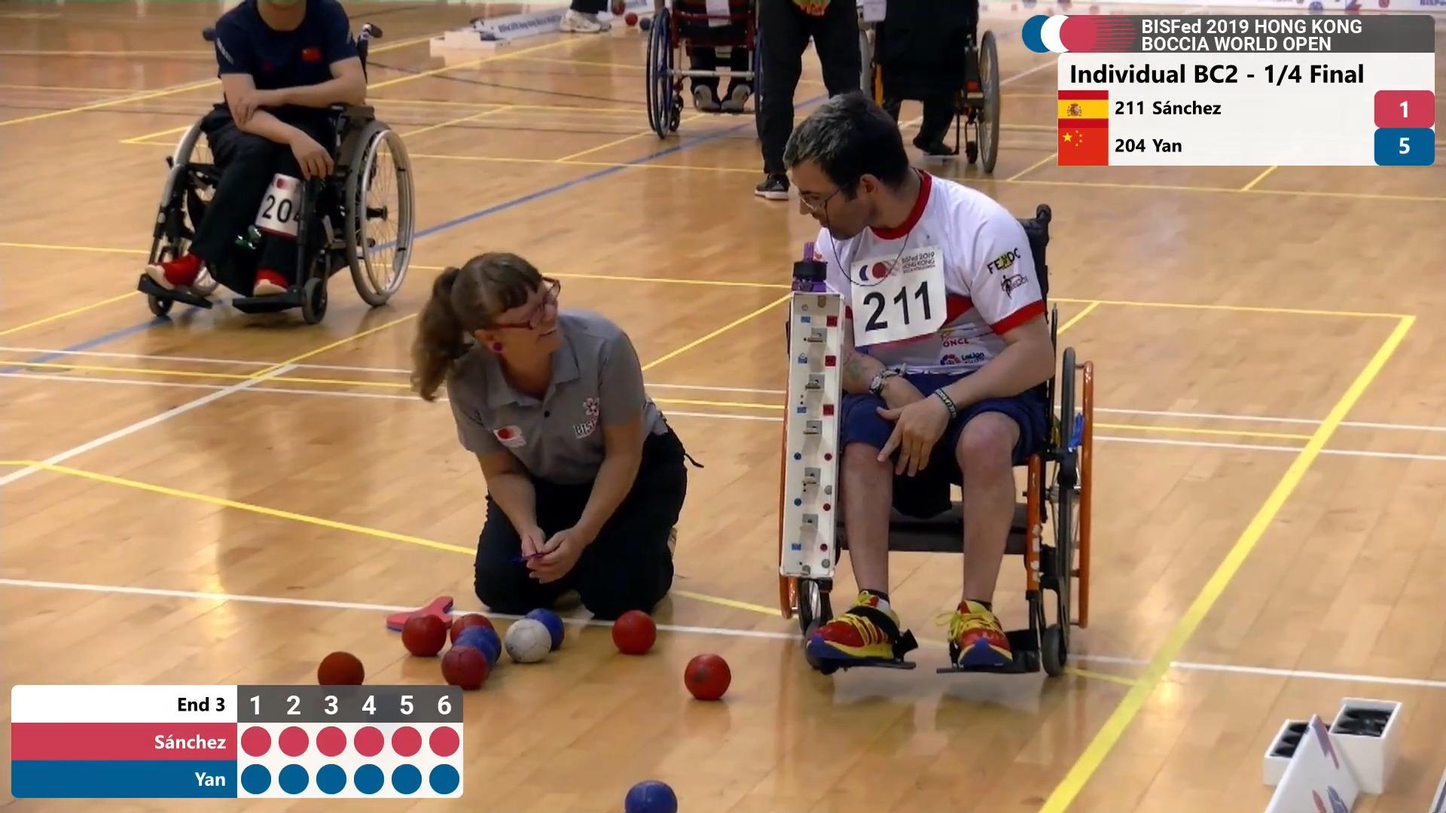blue_ball: (624, 774, 680, 813)
red_ball: (681, 649, 736, 708), (399, 610, 452, 662), (441, 644, 493, 695), (610, 607, 658, 662), (318, 652, 368, 693)
white_ball: (506, 623, 553, 666)
